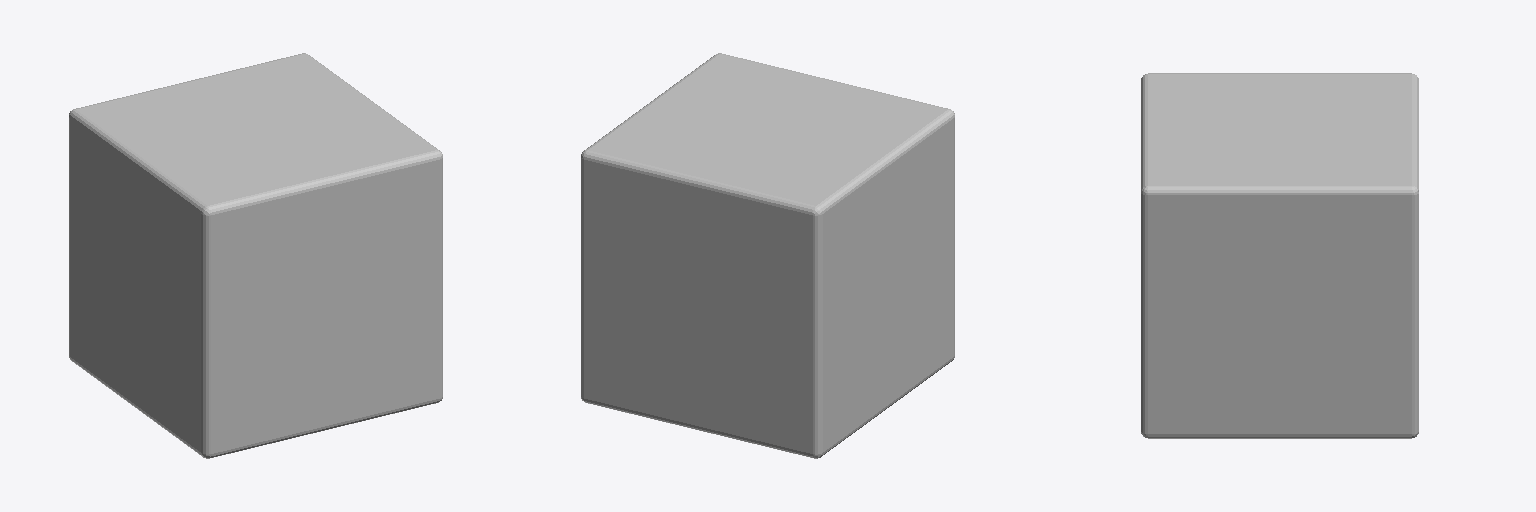
The model's file is filleted_cube.obj.
The picture shows the model from 3 angles: view 1: azimuth 30°, elevation 25°; view 2: azimuth 150°, elevation 25°; view 3: azimuth 270°, elevation 25°; orthographic projection.
Visible parts, largest first — view 1: Filleted Cube; view 2: Filleted Cube; view 3: Filleted Cube.
Boxes of the visible parts, x1=… form: Filleted Cube: x1=69, y1=53, x2=442, y2=458; Filleted Cube: x1=581, y1=53, x2=954, y2=458; Filleted Cube: x1=1141, y1=73, x2=1418, y2=438.
Bounding box in the file's own units: 135 × 135 × 135.